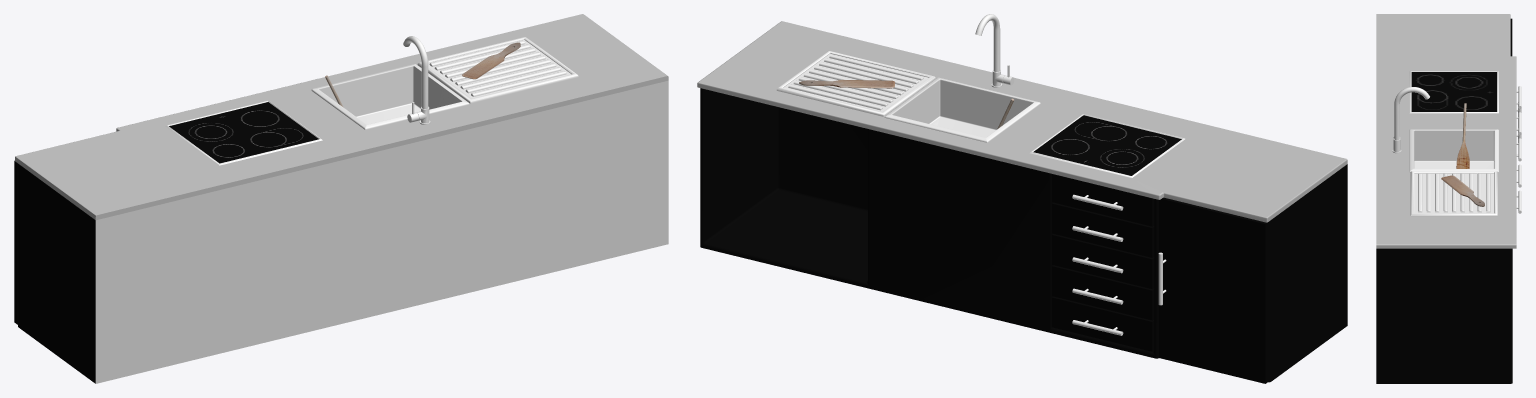
Rendered from kitchen.fbx.
3 renders of one model, left to right at view 1: azimuth 30°, elevation 25°; view 2: azimuth 150°, elevation 25°; view 3: azimuth 270°, elevation 25°, orthographic. The views are drawn at different scales.
Parts seen in each view (by area): view 1: kitchen bottom, kitchen top, faucet, spatula for crepes, kitchen door; view 2: kitchen bottom, kitchen top, kitchen door, drawer 2, drawer 5, drawer 3, drawer 4, drawer 1, faucet, spatula for crepes; view 3: kitchen top, kitchen bottom, faucet, spatula for crepes, spatula.
Part boxes in pixels (x1=…): kitchen bottom: x1=18, y1=80, x2=668, y2=383; kitchen top: x1=15, y1=14, x2=668, y2=220; faucet: x1=403, y1=36, x2=430, y2=124; spatula for crepes: x1=462, y1=42, x2=520, y2=79; kitchen door: x1=14, y1=160, x2=17, y2=324; kitchen bottom: x1=700, y1=88, x2=1347, y2=382; kitchen top: x1=697, y1=21, x2=1347, y2=222; kitchen door: x1=1159, y1=197, x2=1268, y2=383; drawer 2: x1=1052, y1=202, x2=1154, y2=257; drawer 5: x1=1052, y1=296, x2=1154, y2=351; drawer 3: x1=1052, y1=234, x2=1154, y2=289; drawer 4: x1=1052, y1=265, x2=1154, y2=320; drawer 1: x1=1052, y1=174, x2=1154, y2=226; faucet: x1=975, y1=14, x2=1014, y2=87; spatula for crepes: x1=799, y1=80, x2=895, y2=88; kitchen top: x1=1376, y1=14, x2=1516, y2=248; kitchen bottom: x1=1376, y1=248, x2=1512, y2=383; faucet: x1=1392, y1=87, x2=1429, y2=153; spatula for crepes: x1=1441, y1=175, x2=1484, y2=206; spatula: x1=1456, y1=103, x2=1469, y2=168.
Size of what is drawn, in the model's own units: 325 by 133 by 86.46.
